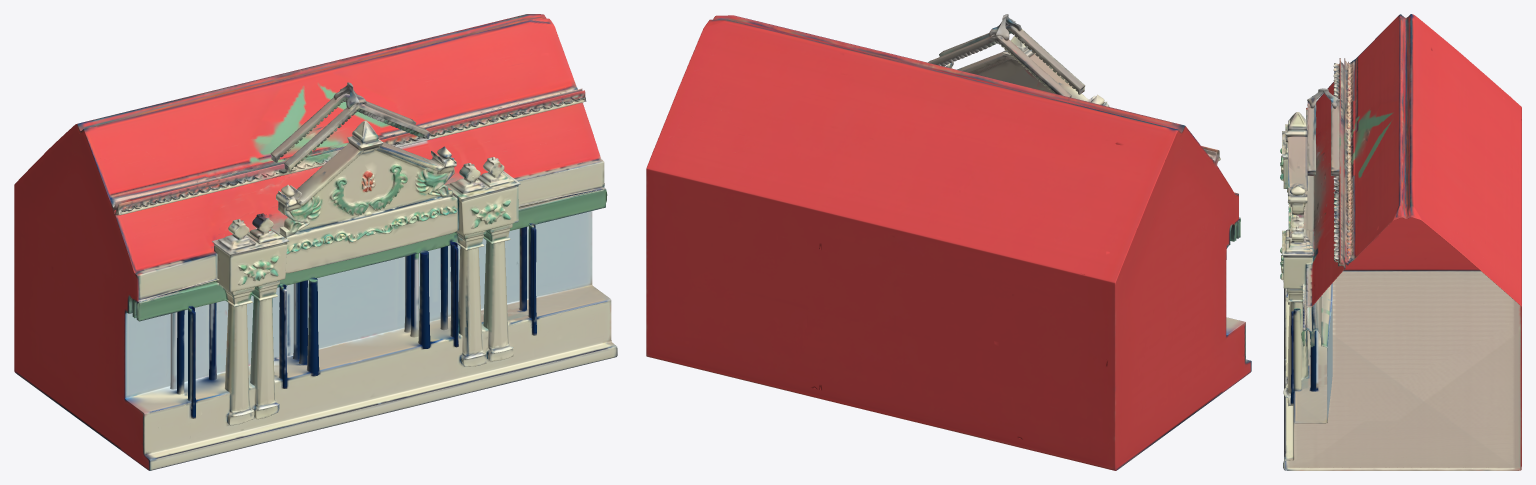
File: keraton_yogyakarta.glb
The picture shows the model from 3 angles, left to right: view 1: azimuth 30°, elevation 25°; view 2: azimuth 150°, elevation 25°; view 3: azimuth 270°, elevation 25°; orthographic projection. The views are drawn at different scales.
Parts seen in each view (by area): view 1: convert; view 2: convert; view 3: convert.
Boxes of the visible parts, x1=… form: convert: x1=14, y1=14, x2=617, y2=470; convert: x1=646, y1=14, x2=1251, y2=470; convert: x1=1280, y1=14, x2=1521, y2=470.
Size of the model in its own units: 0.9252 by 0.601 by 0.4736.
Materials: 1 (1 with a texture image).
